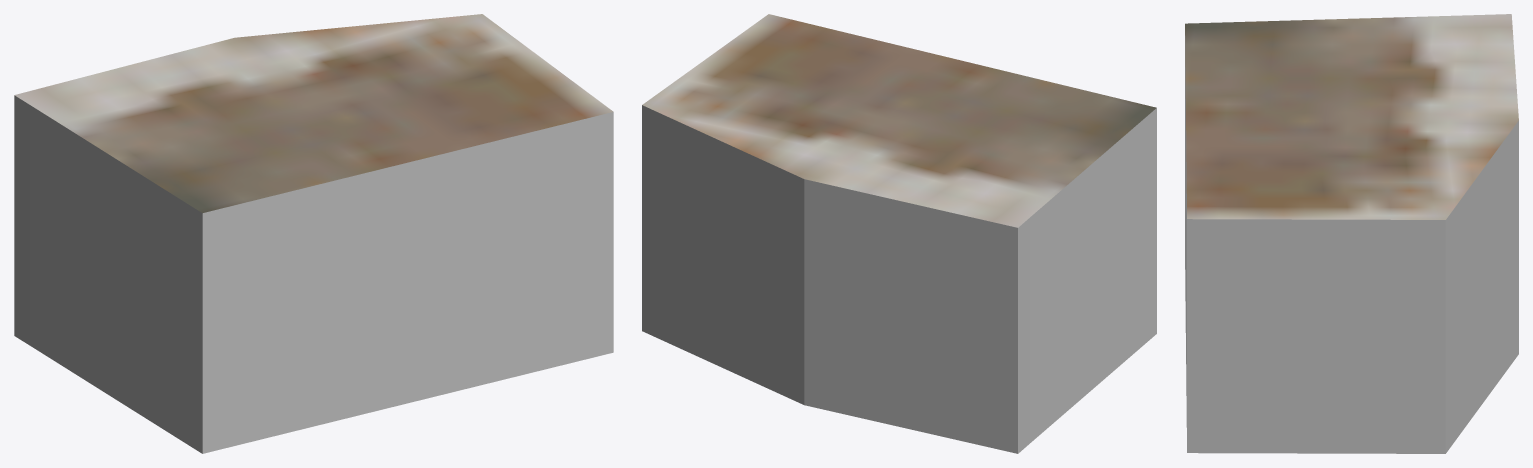
The model's file is DEBW_0010007Tx9B.gltf.
3 renders of one model, left to right at view 1: azimuth 30°, elevation 25°; view 2: azimuth 150°, elevation 25°; view 3: azimuth 270°, elevation 25°, orthographic. The views are drawn at different scales.
Visible parts, largest first — view 1: Z_UP; view 2: Z_UP; view 3: Z_UP.
Boxes of the visible parts, box(x1,y1,x2,y2) form: Z_UP: box(14, 14, 613, 453); Z_UP: box(642, 14, 1156, 453); Z_UP: box(1185, 14, 1518, 453).
Size of the model in its own units: 4.73 by 2.51 by 3.24.
2 materials, 1 textured.
